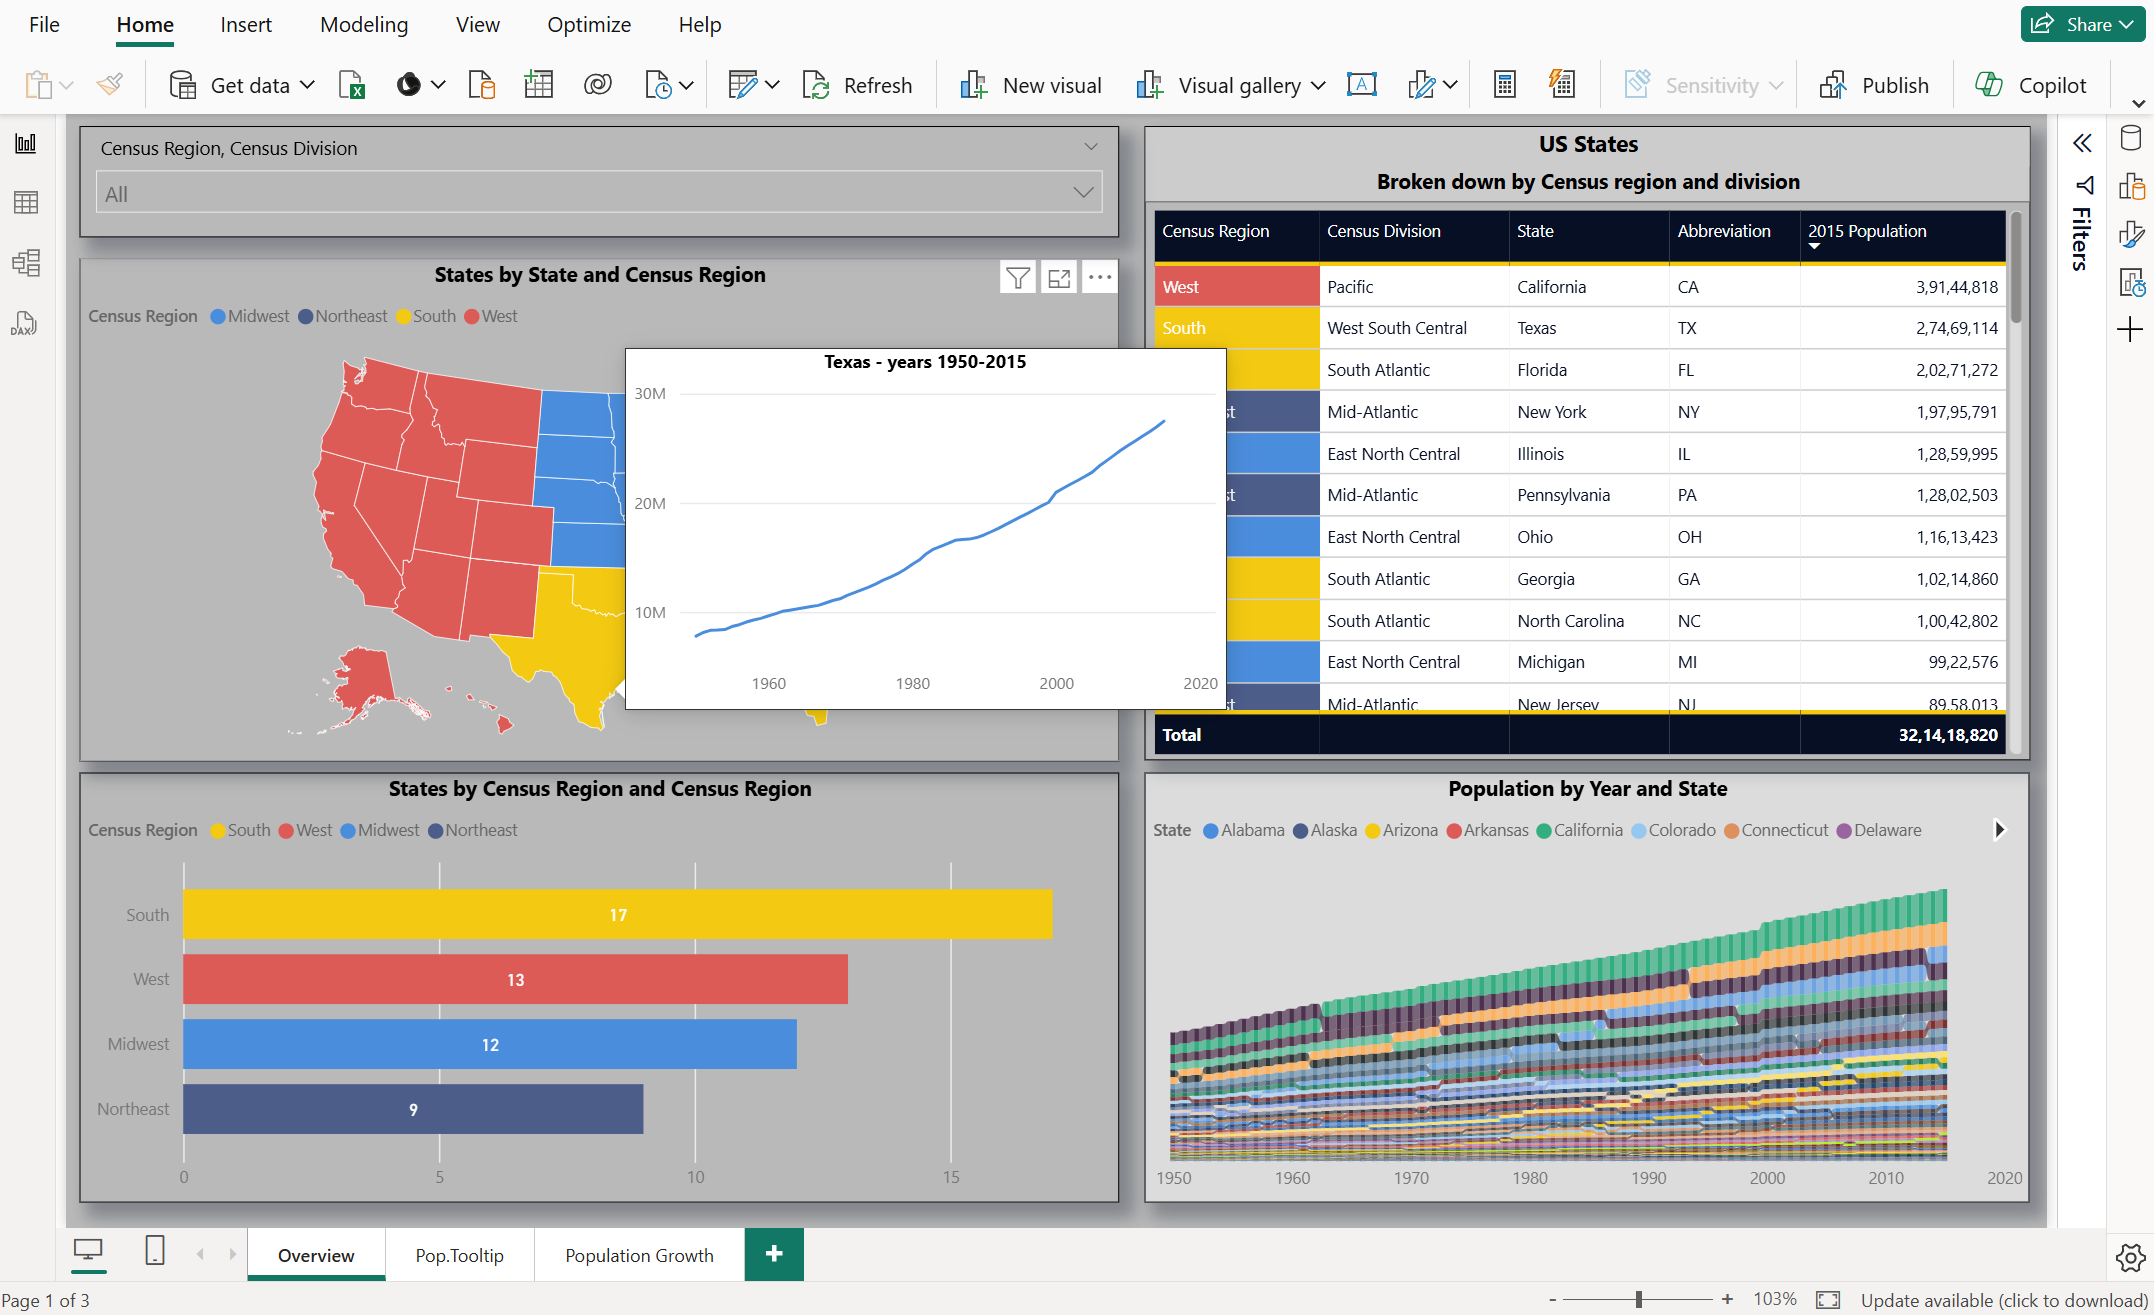

Layout of this report page (visuals, bound fields, positions):
{"tool":"powerbi","page":{"name":"Overview","canvas":[1280,720],"ordinal":0},"visuals":[{"type":"tableEx","title":"US States","fields":{"Values":["States.Census Region","States.Census Division","States.State","States.Abbreviation","States.2015 Population"]},"box":[696.8,7.9,572.6,410],"z":0},{"type":"shapeMap","fields":{"Category":["States.State"],"Value":["_Measures.States"],"Series":["States.Census Region"]},"box":[9,92.6,672,325.3],"z":1000},{"type":"barChart","fields":{"Category":["States.Census Region"],"Y":["_Measures.States"],"Series":["States.Census Region"]},"box":[9,425.8,672,277.8],"z":2000},{"type":"slicer","title":"Census region & Census Division","fields":{"Values":["States.Census Areas.Census Region","States.Census Areas.Census Division"]},"box":[9,7.9,672,72.3],"z":3000},{"type":"ribbonChart","fields":{"Category":["states-populations.Year"],"Series":["States.State"],"Y":["_Measures.Population"]},"box":[697.3,426,571.9,278.1],"z":4000}]}

Visuals, with their boxes on the page's 1280x720 design canvas (x1, y1, x2, y2). These are canvas units, not pixel positions in the 2154x1315 screenshot, which may show the page scaled, cropped or inside an application window:
"US States" tableEx: box=[697, 8, 1269, 418]
shapeMap - States.State x _Measures.States: box=[9, 93, 681, 418]
barChart - States.Census Region x _Measures.States: box=[9, 426, 681, 704]
"Census region & Census Division" slicer: box=[9, 8, 681, 80]
ribbonChart - states-populations.Year x States.State: box=[697, 426, 1269, 704]
